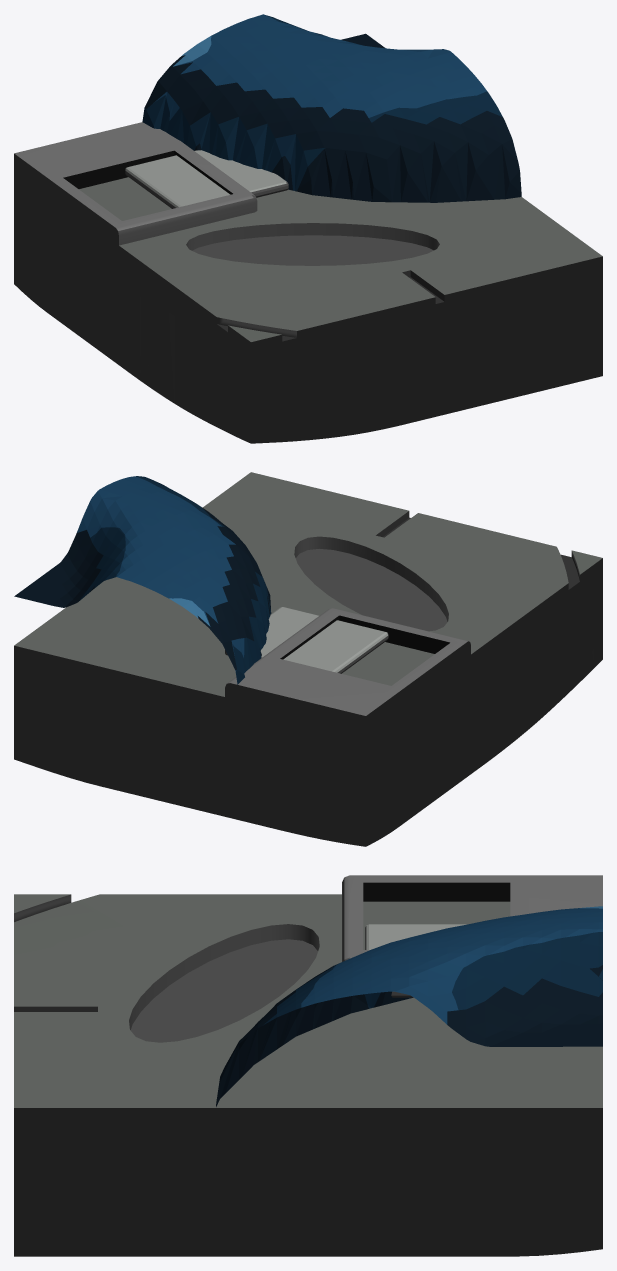
Rendered from camanis_boss_233.glb.
3 renders of one model, top to bottom at view 1: azimuth 30°, elevation 25°; view 2: azimuth 150°, elevation 25°; view 3: azimuth 270°, elevation 25°, orthographic. The views are drawn at different scales.
Parts seen in each view (by area): view 1: camanis_boss_233; view 2: camanis_boss_233; view 3: camanis_boss_233.
Part boxes in pixels (bbox=[...]): camanis_boss_233: bbox=[14, 14, 602, 443]; camanis_boss_233: bbox=[14, 472, 602, 846]; camanis_boss_233: bbox=[14, 875, 602, 1256].
Bounding box in the file's own units: 24 × 13.91 × 28.
